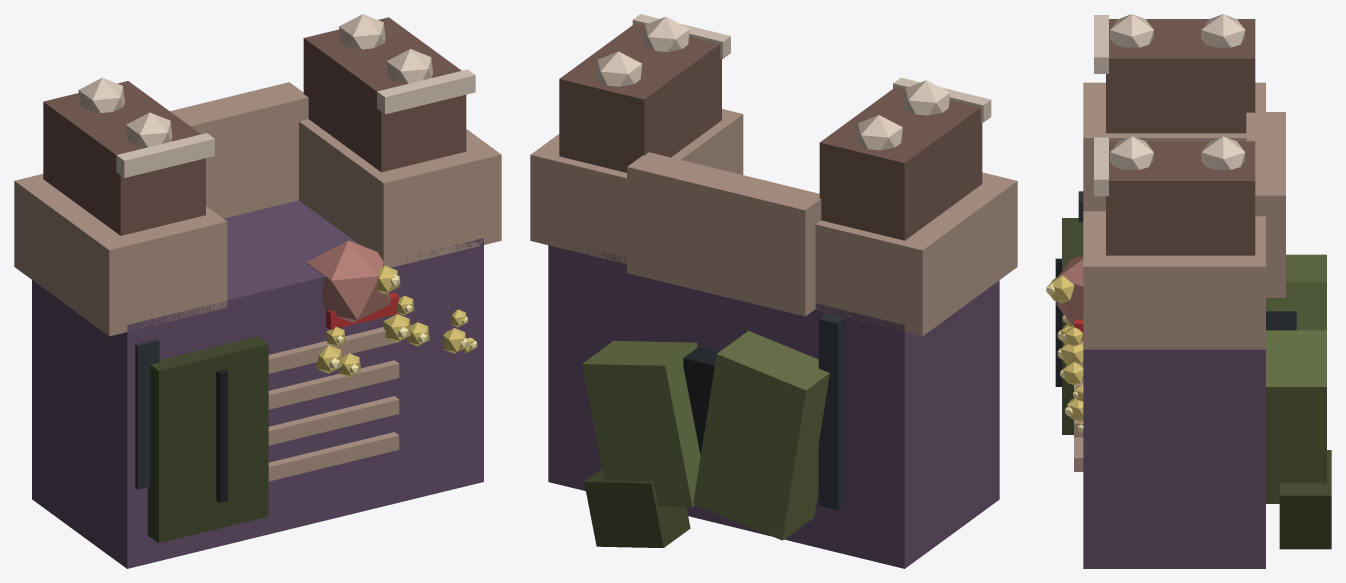
File: inf_brute_upper_torso.fbx
The picture shows the model from 3 angles, left to right: view 1: azimuth 30°, elevation 25°; view 2: azimuth 150°, elevation 25°; view 3: azimuth 270°, elevation 25°; orthographic projection. The views are drawn at different scales.
Parts seen in each view (by area): view 1: inf_brute_upper_torso; view 2: inf_brute_upper_torso; view 3: inf_brute_upper_torso.
Boxes of the visible parts, x1,y1,x2,y2 form: inf_brute_upper_torso: (14,14,501,568); inf_brute_upper_torso: (530,14,1017,568); inf_brute_upper_torso: (1046,14,1331,568).
Bounding box in the file's own units: 286 × 311 × 187.
